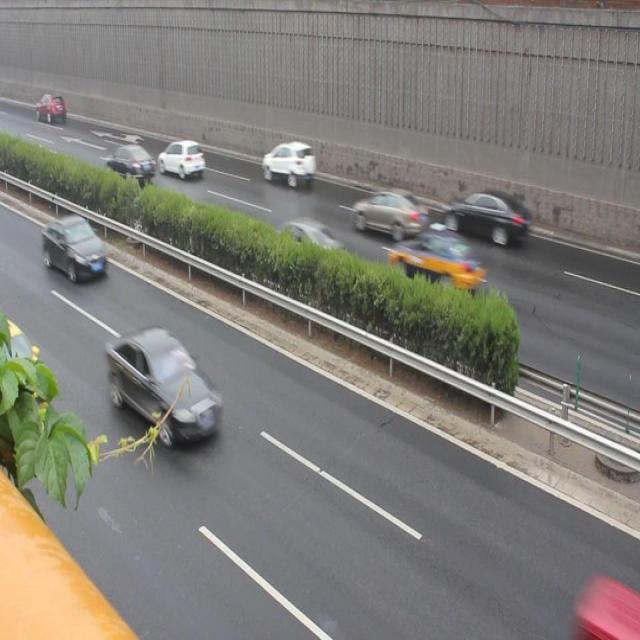car: (108, 327, 220, 447), (1, 318, 58, 456), (388, 229, 482, 300), (440, 181, 530, 248), (41, 214, 108, 283), (350, 186, 430, 241), (271, 214, 343, 271), (260, 137, 316, 185), (105, 138, 157, 186), (160, 136, 205, 180)
